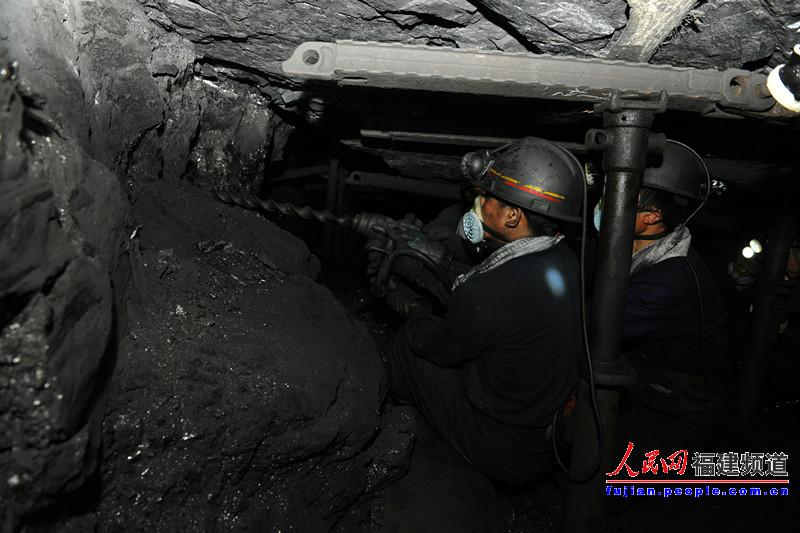helmet: (452, 133, 581, 243)
